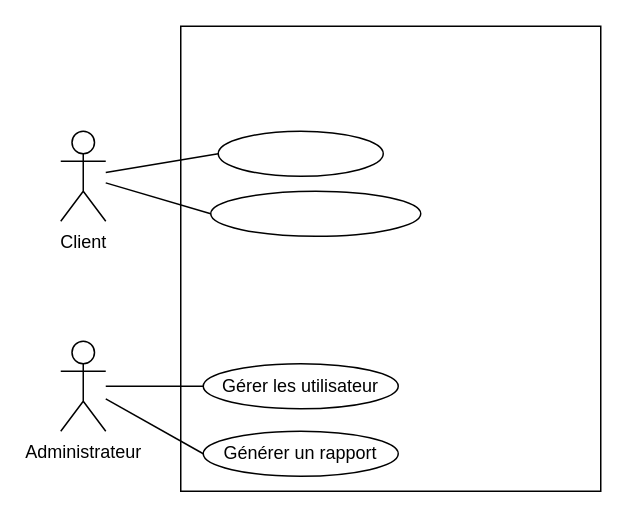
The diagram is 627 pixels wide and 518 high, and some of its shapes have lost their labels. Each missing label, with the centre of its shape:
"Consulter le solde" goes at pixel 300 153.
"Effectuer un paiement" goes at pixel 315 213.
